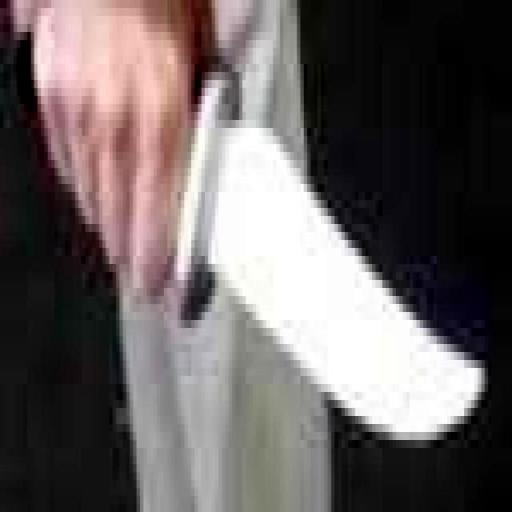knife: (61, 19, 512, 498)
